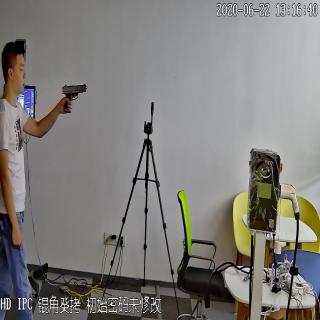gun: (62, 82, 88, 114)
